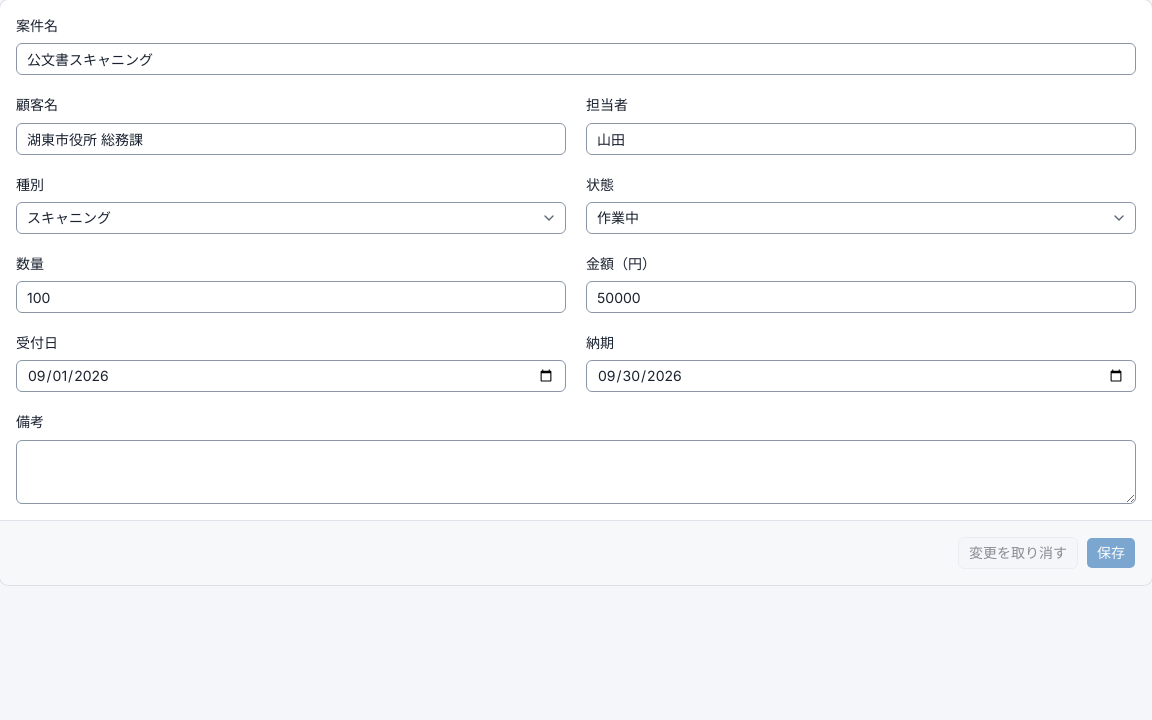
Test: OrderEditForm › 変更を取り消すと元の値に戻る
In the field labelled "案件名": (576, 59) [16,43,1136,75], type "あ"
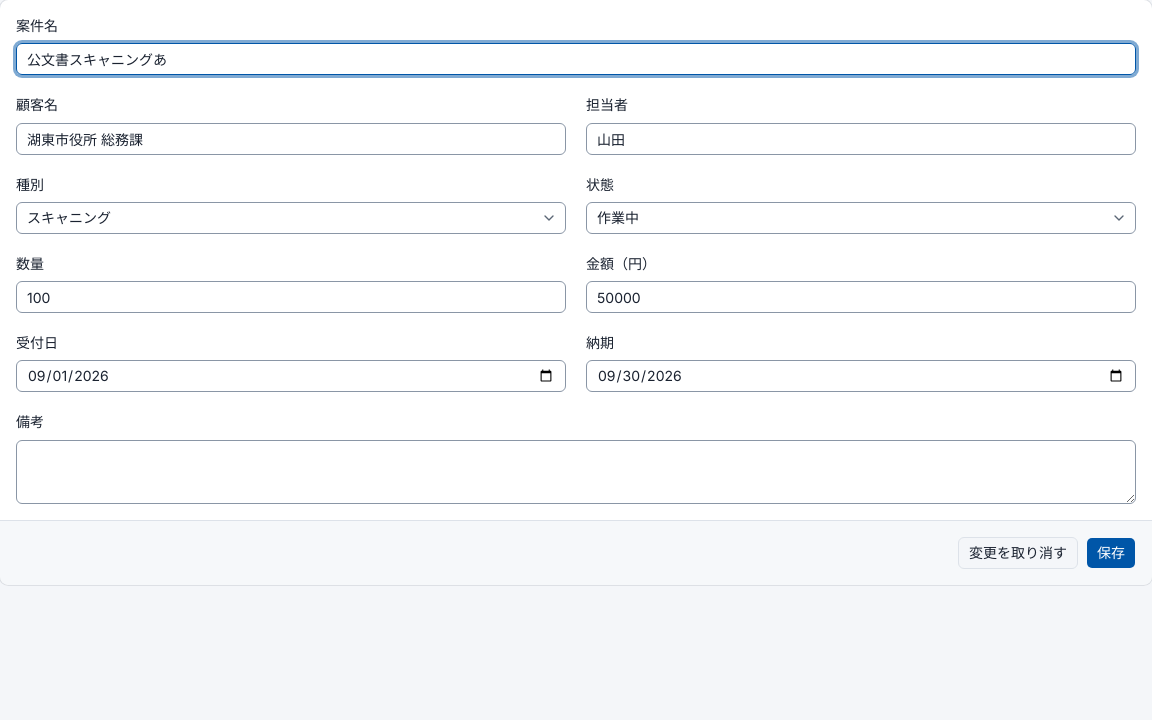
Click the button "変更を取り消す": (1018, 552) [958,536,1078,568]
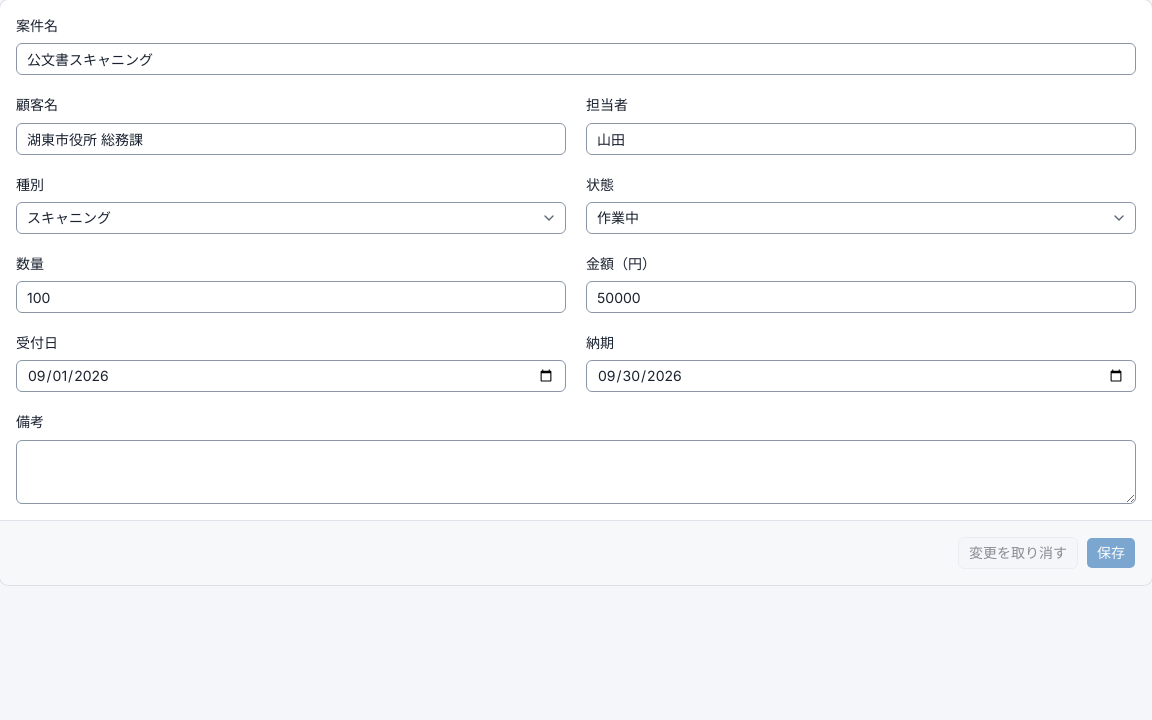
Expected: the field labelled "案件名" holds "公文書スキャニング", [16,43,1136,75]
